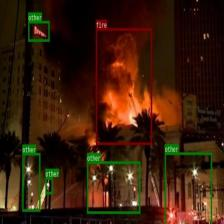fire: (95, 28, 152, 144)
